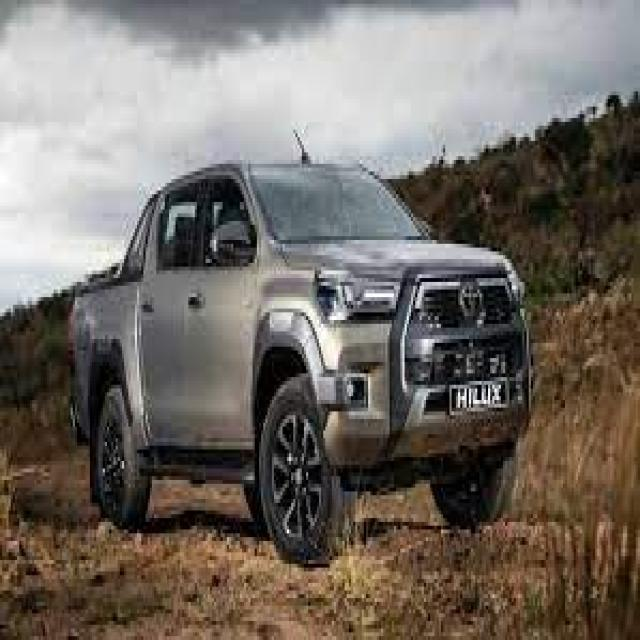Pickup Trucks: (68, 163, 531, 568)
